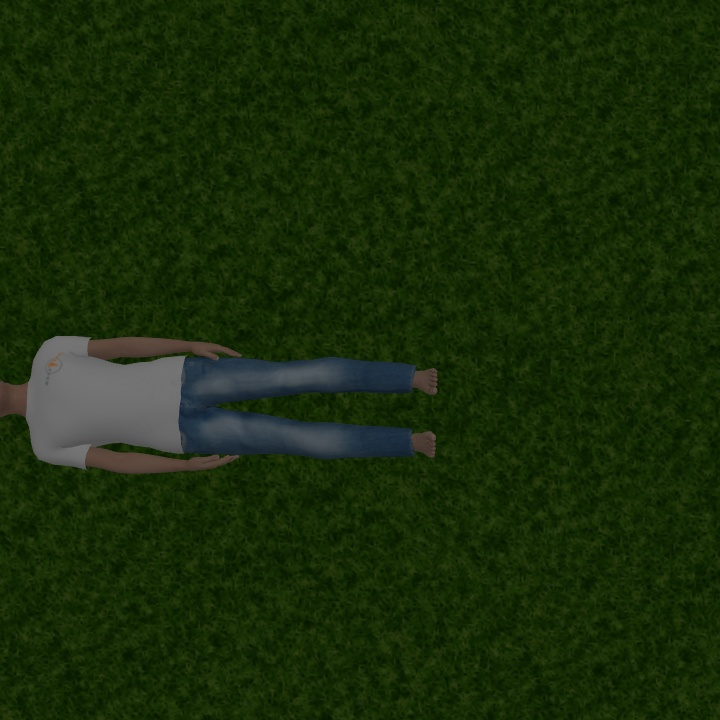victim: (1, 329, 442, 481)
